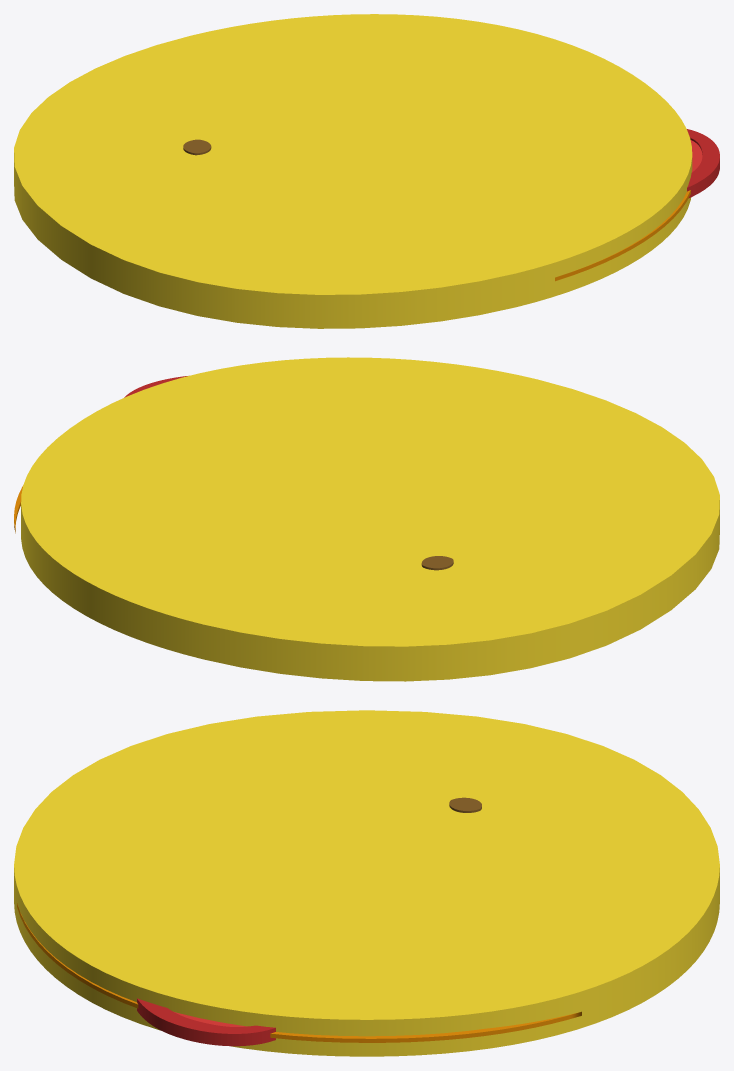
File: emoji_u1f618.glb
3 views of the same model, one above another, from view 1: azimuth 30°, elevation 25°; view 2: azimuth 150°, elevation 25°; view 3: azimuth 270°, elevation 25° (orthographic). The views are drawn at different scales.
Parts seen in each view (by area): view 1: emoji_u1f618; view 2: emoji_u1f618; view 3: emoji_u1f618.
Boxes of the visible parts, left/top/right/bottom form: emoji_u1f618: left=14, top=14, right=719, bottom=328; emoji_u1f618: left=14, top=357, right=719, bottom=681; emoji_u1f618: left=14, top=710, right=719, bottom=1056.
Size of the model in its own units: 0.0328 by 0.002 by 0.0313.
